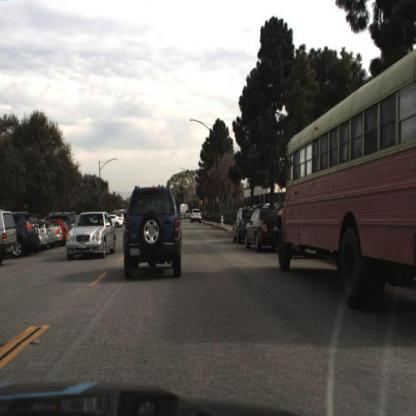car: (123, 183, 184, 278), (64, 210, 117, 262), (242, 209, 280, 256)
truck: (280, 45, 414, 309)
